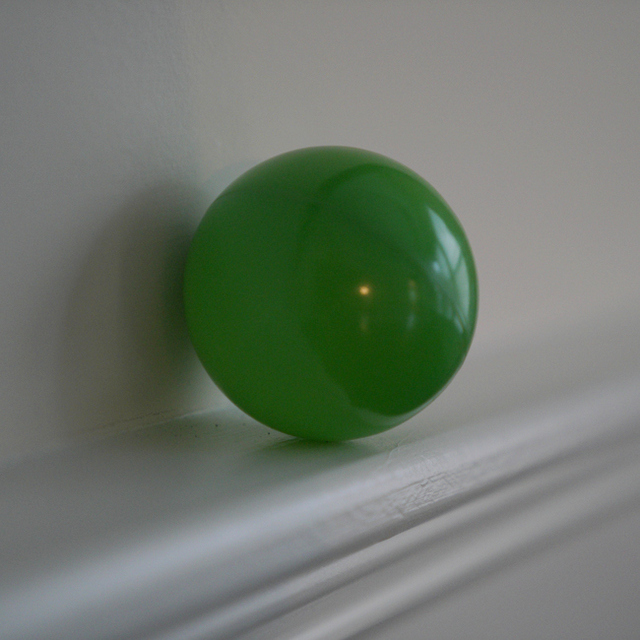Ball: (174, 146, 475, 443)
